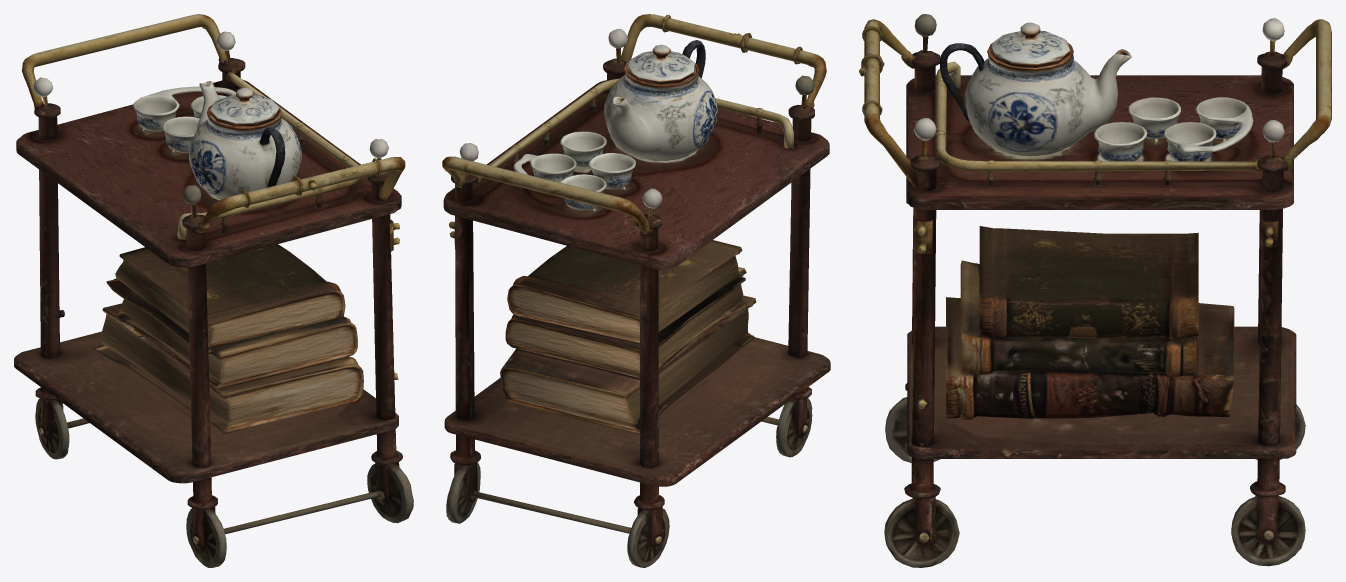
File: prop-tea-cart-v01.glb
3 views of the same model, side by side, from view 1: azimuth 30°, elevation 25°; view 2: azimuth 150°, elevation 25°; view 3: azimuth 270°, elevation 25° (orthographic). The views are drawn at different scales.
Visible parts, largest first — view 1: tripo_node_6488159e-99cc-46d5-a949-6d8d801ff641; view 2: tripo_node_6488159e-99cc-46d5-a949-6d8d801ff641; view 3: tripo_node_6488159e-99cc-46d5-a949-6d8d801ff641.
Part boxes in pixels (x1,y1,x2,y2): tripo_node_6488159e-99cc-46d5-a949-6d8d801ff641: (14, 14, 413, 567); tripo_node_6488159e-99cc-46d5-a949-6d8d801ff641: (442, 14, 830, 567); tripo_node_6488159e-99cc-46d5-a949-6d8d801ff641: (859, 14, 1331, 567).
Size of the model in its own units: 0.4872 by 0.844 by 0.7449.
1 material, 1 textured.
